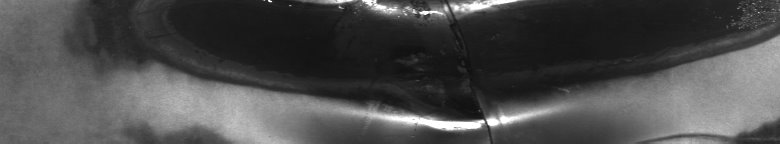ke: (159, 4, 569, 136)
